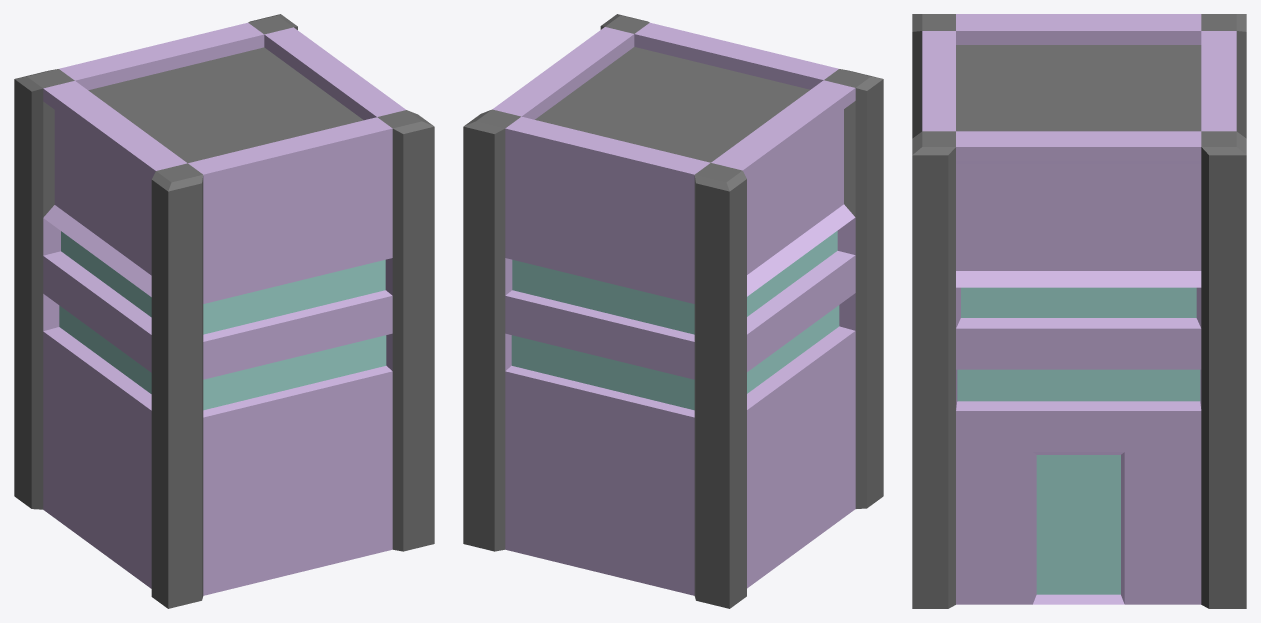
Rendered from HDB 3.fbx.
The picture shows the model from 3 angles, left to right: view 1: azimuth 30°, elevation 25°; view 2: azimuth 150°, elevation 25°; view 3: azimuth 270°, elevation 25°; orthographic projection. The views are drawn at different scales.
Parts seen in each view (by area): view 1: HDB_3; view 2: HDB_3; view 3: HDB_3.
Part boxes in pixels (x1,y1,x2,y2): HDB_3: [14, 14, 434, 608]; HDB_3: [463, 14, 883, 608]; HDB_3: [912, 14, 1246, 608].
Size of the model in its own units: 6.84 by 10.34 by 6.84.
